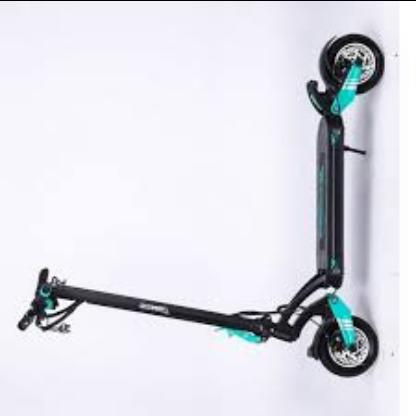bike: (14, 35, 381, 378)
